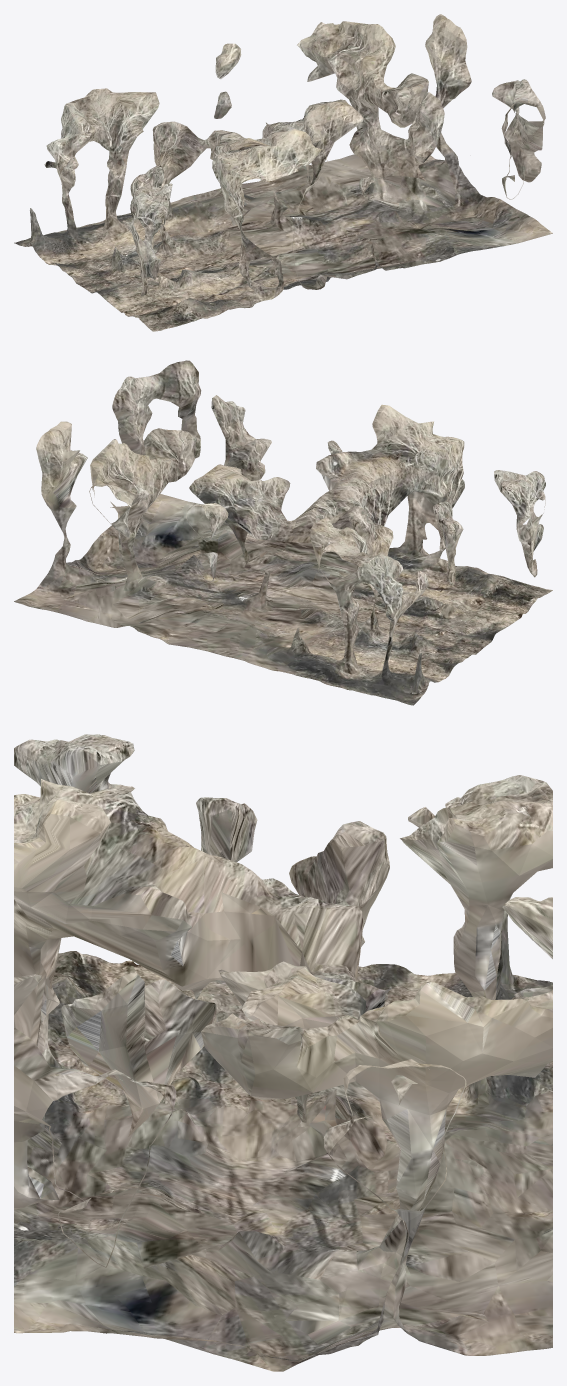
Rendered from Block_L20_276.glb.
3 views of the same model, one above another, from view 1: azimuth 30°, elevation 25°; view 2: azimuth 150°, elevation 25°; view 3: azimuth 270°, elevation 25° (orthographic). The views are drawn at different scales.
Visible parts, largest first — view 1: rtc; view 2: rtc; view 3: rtc.
Part boxes in pixels (left/top/right/bottom): rtc: left=14, top=14, right=552, bottom=331; rtc: left=14, top=360, right=552, bottom=705; rtc: left=14, top=734, right=552, bottom=1371.
Size of the model in its own units: 29.22 by 13.06 by 17.64.
5 materials, 5 textured.
